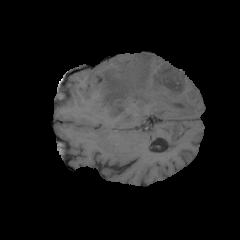glioma: (97, 53, 197, 128)
